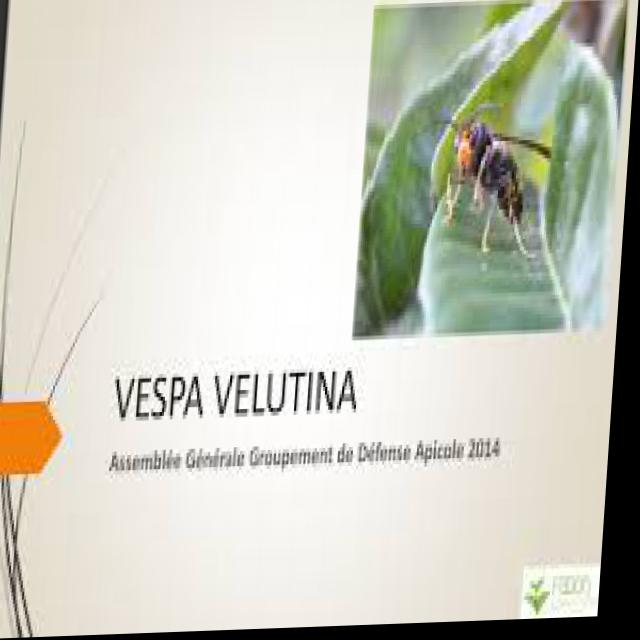Vespa Velutina: (426, 98, 561, 278)
